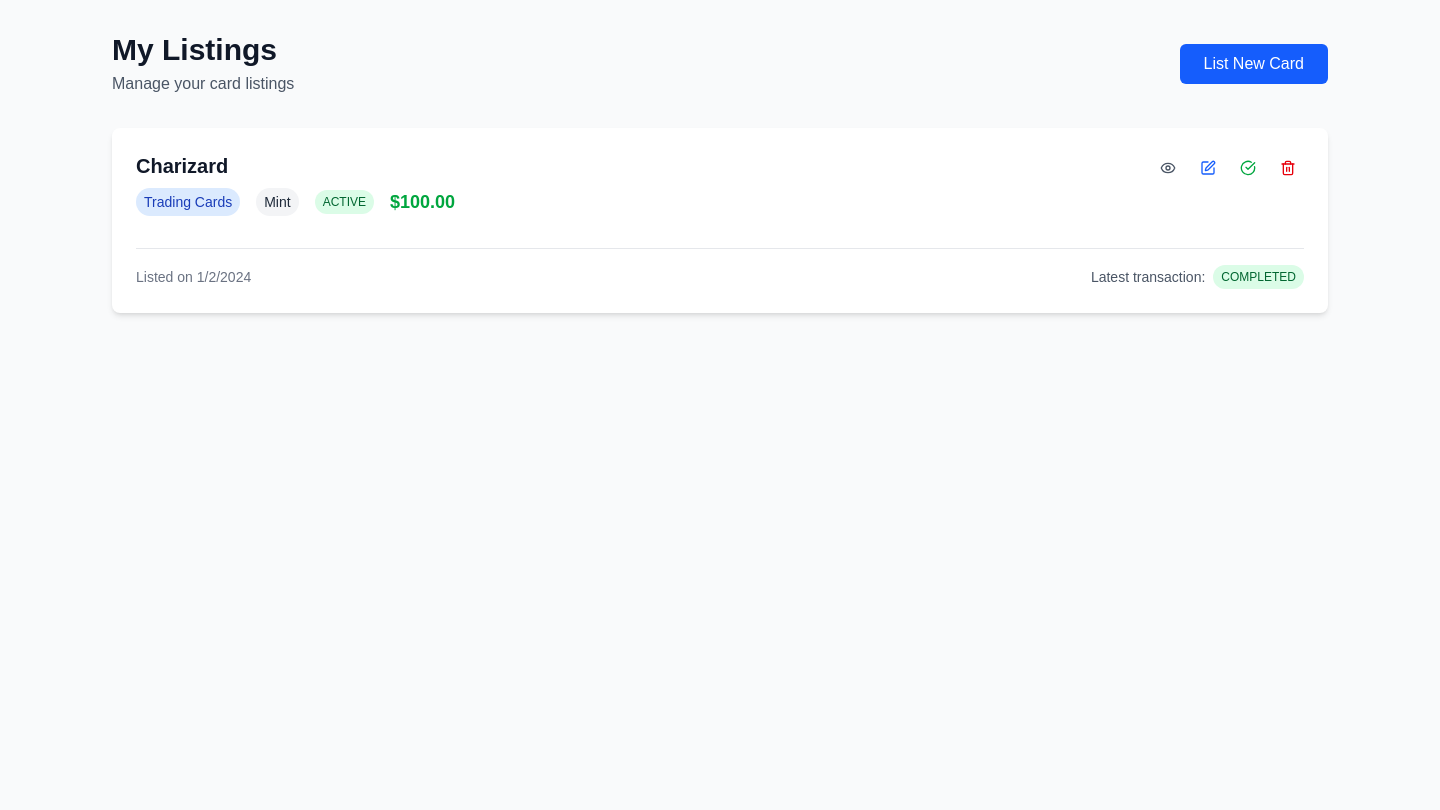
MyCardsPage (Listings) › Edit Listing Functionality › should populate edit form with card data including null fields
Check: the heading "Charizard" is shown, box [136, 155, 228, 177]
Click the button titled "Edit listing". click: (1208,168)
box: [1192, 152, 1224, 184]
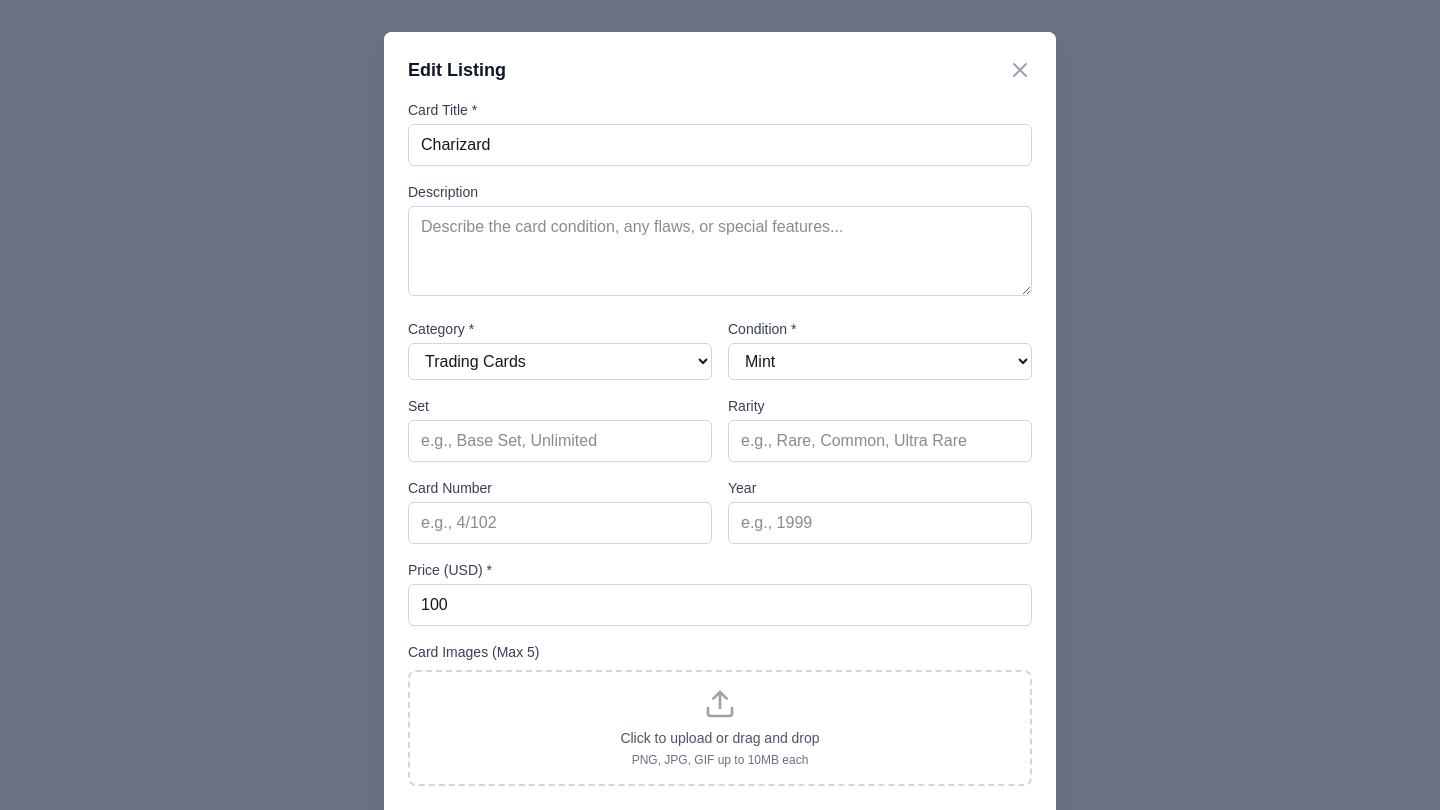
Check: the heading "Edit Listing" is shown, box [408, 56, 506, 84]
Check: the field showing "Charizard" is shown, box [408, 124, 1032, 166]
Check: the number field showing "100" is shown, box [408, 584, 1032, 626]
